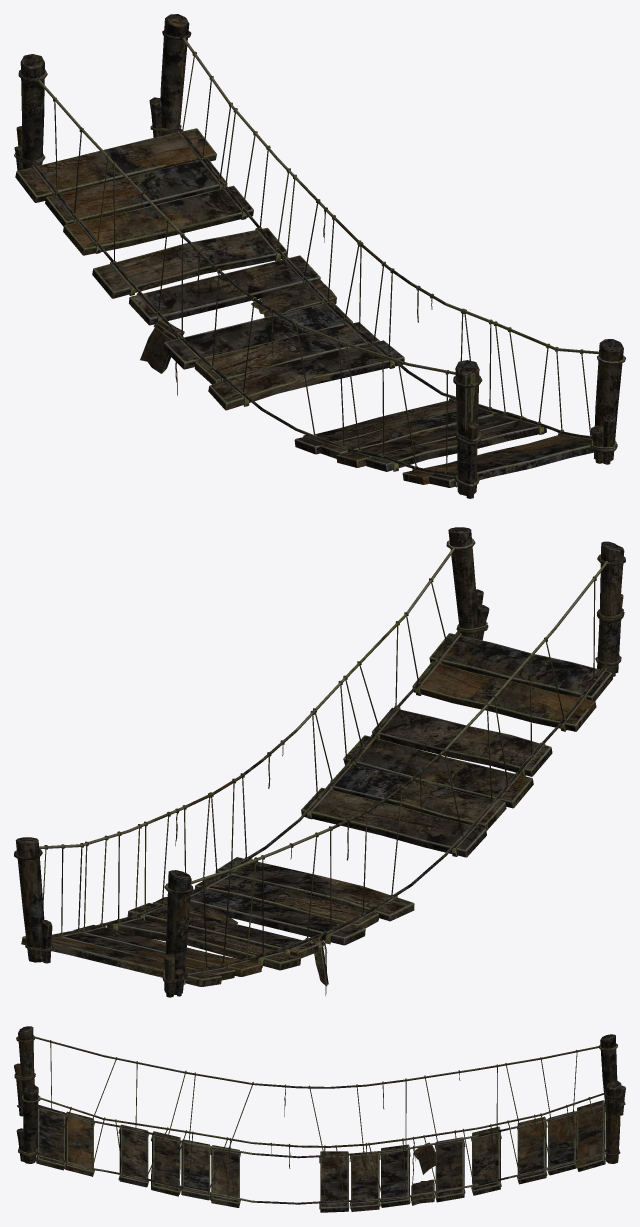
Rendered from bridge_2.glb.
The picture shows the model from 3 angles, top to bottom: view 1: azimuth 30°, elevation 25°; view 2: azimuth 150°, elevation 25°; view 3: azimuth 270°, elevation 25°; orthographic projection. The views are drawn at different scales.
Visible parts, largest first — view 1: Bridge_lambert3_0; view 2: Bridge_lambert3_0; view 3: Bridge_lambert3_0.
Part boxes in pixels (left/top/right/bottom): Bridge_lambert3_0: left=14, top=14, right=625, bottom=498; Bridge_lambert3_0: left=14, top=527, right=625, bottom=997; Bridge_lambert3_0: left=14, top=1026, right=625, bottom=1212.
Bounding box in the file's own units: 12.82 × 16.33 × 55.39.
Materials: 1 (1 with a texture image).
